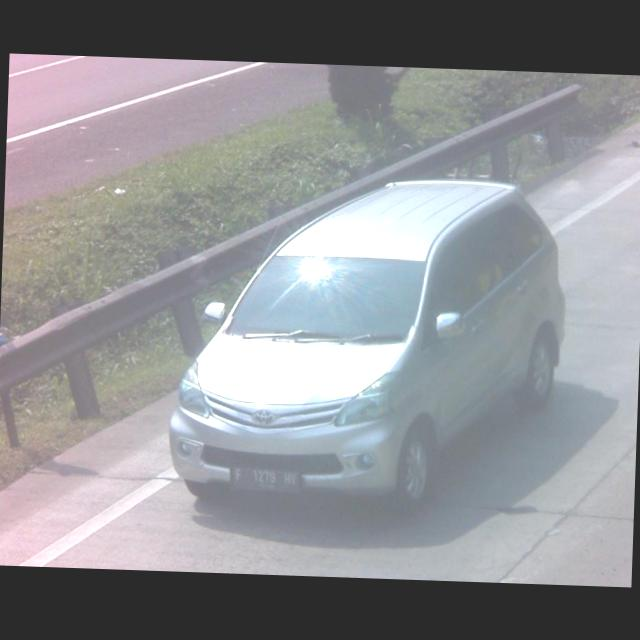plate: (231, 465, 298, 491)
